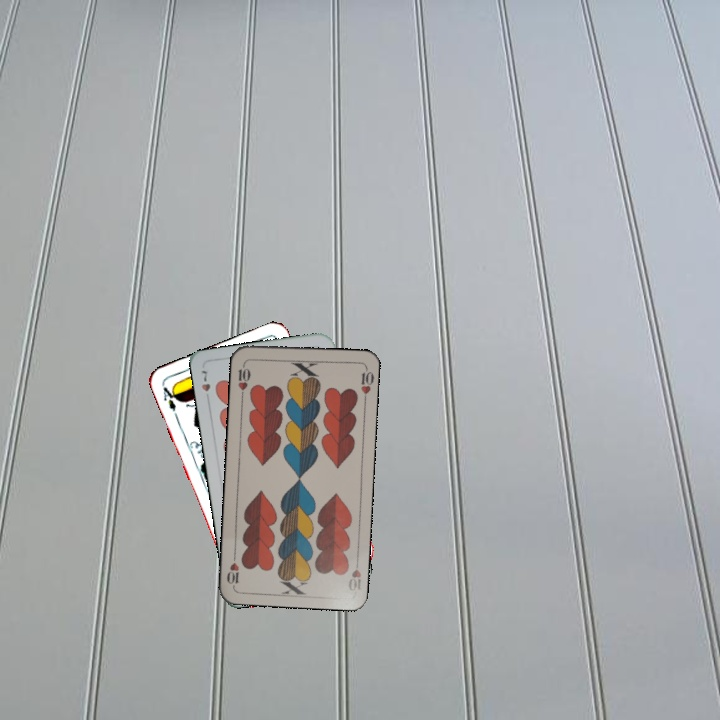EA: (158, 381, 181, 414)
H10: (344, 554, 364, 593), (234, 359, 253, 399)
H7: (196, 366, 213, 394)
